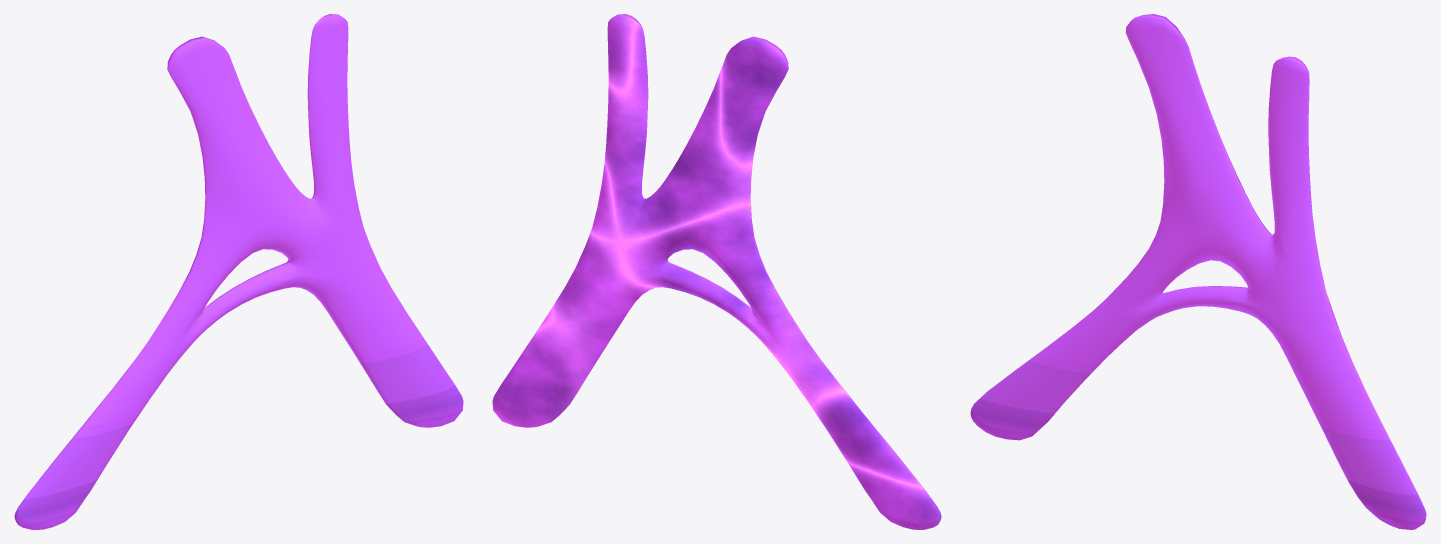
File: caos_drs_chaosenergy_01a_v35.glb
The picture shows the model from 3 angles, left to right: view 1: azimuth 30°, elevation 25°; view 2: azimuth 150°, elevation 25°; view 3: azimuth 330°, elevation 25°; orthographic projection.
Visible parts, largest first — view 1: caos_drs_chaosenergy_01a; view 2: caos_drs_chaosenergy_01a; view 3: caos_drs_chaosenergy_01a.
Part boxes in pixels (<box>): caos_drs_chaosenergy_01a: <box>14,14,463,529</box>; caos_drs_chaosenergy_01a: <box>492,14,941,529</box>; caos_drs_chaosenergy_01a: <box>970,14,1426,529</box>.
Bounding box in the file's own units: 2.97 × 2.87 × 0.1802.
1 material, 1 textured.
